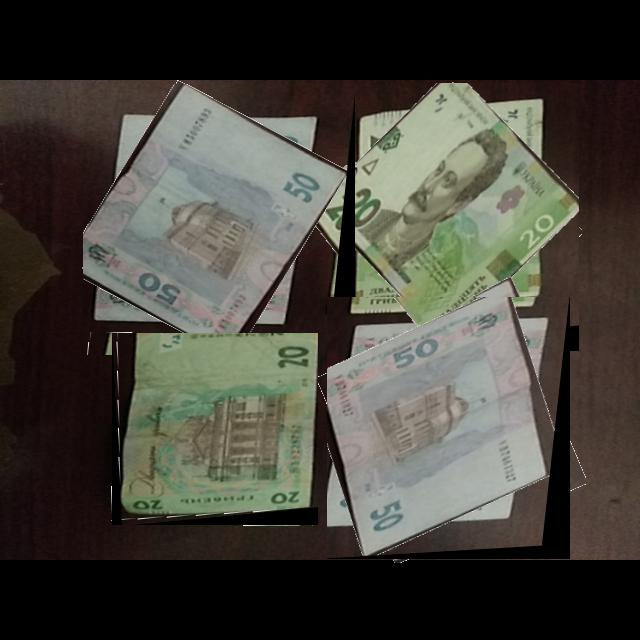20uah: (320, 83, 580, 342), (119, 333, 319, 514)
50uah: (83, 84, 349, 356), (327, 297, 554, 558)
